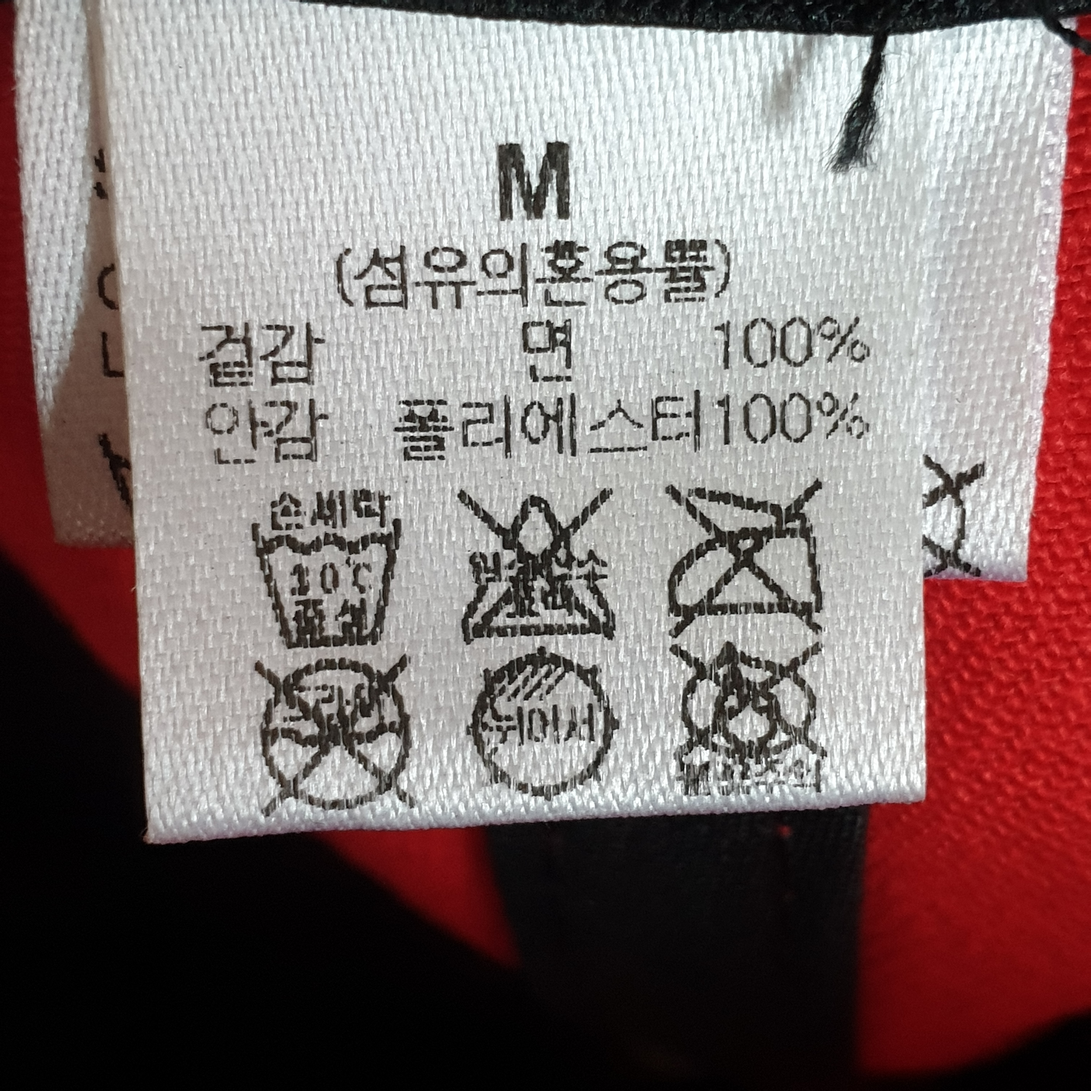KR_flat_dry_in_shade: (455, 646, 624, 796)
KR_hand_wash_30_neutral: (246, 482, 412, 654)
KR_no_bleach: (441, 482, 627, 648)
KR_no_dry_clean: (249, 653, 426, 815)
KR_no_iron: (653, 475, 830, 635)
